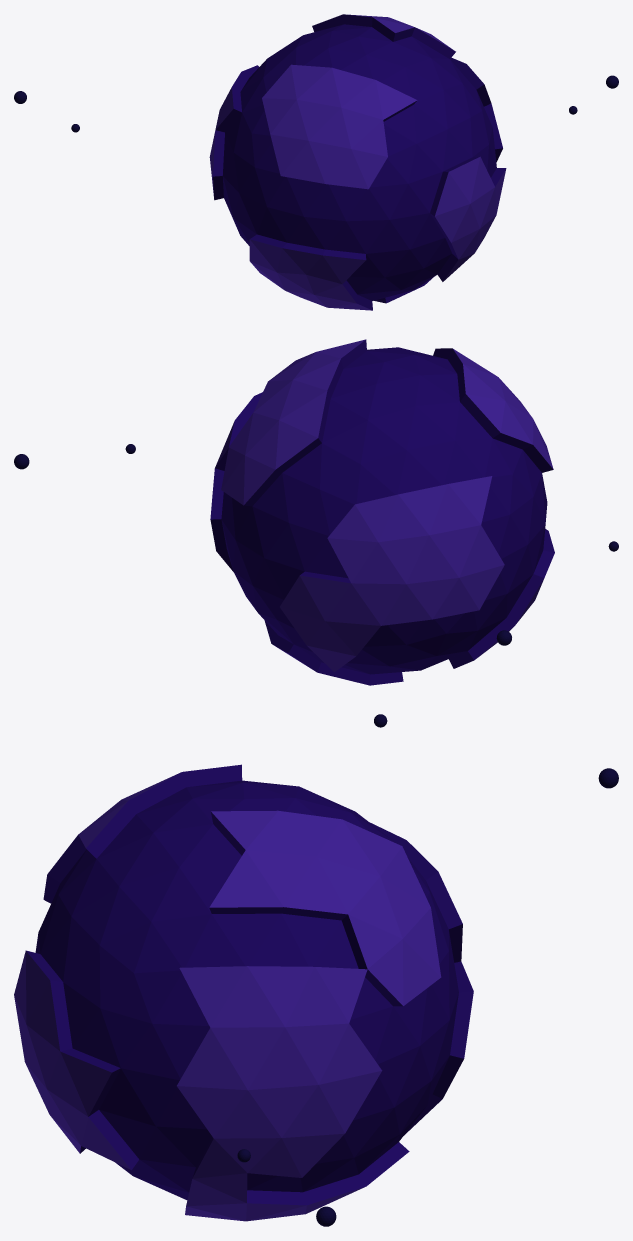
The model's file is Planete1.glb.
The picture shows the model from 3 angles, top to bottom: view 1: azimuth 30°, elevation 25°; view 2: azimuth 150°, elevation 25°; view 3: azimuth 270°, elevation 25°; orthographic projection. The views are drawn at different scales.
Parts seen in each view (by area): view 1: Icosphère, Icosphère.001; view 2: Icosphère, Icosphère.001; view 3: Icosphère, Icosphère.001.
Part boxes in pixels (box(x1,y1,x2,y2)): Icosphère: box(213, 14, 506, 310); Icosphère.001: box(209, 14, 505, 310); Icosphère: box(210, 339, 554, 685); Icosphère.001: box(212, 339, 553, 672); Icosphère: box(26, 764, 473, 1205); Icosphère.001: box(14, 772, 441, 1221).
Size of the model in its own units: 4.39 by 2.11 by 2.82.
